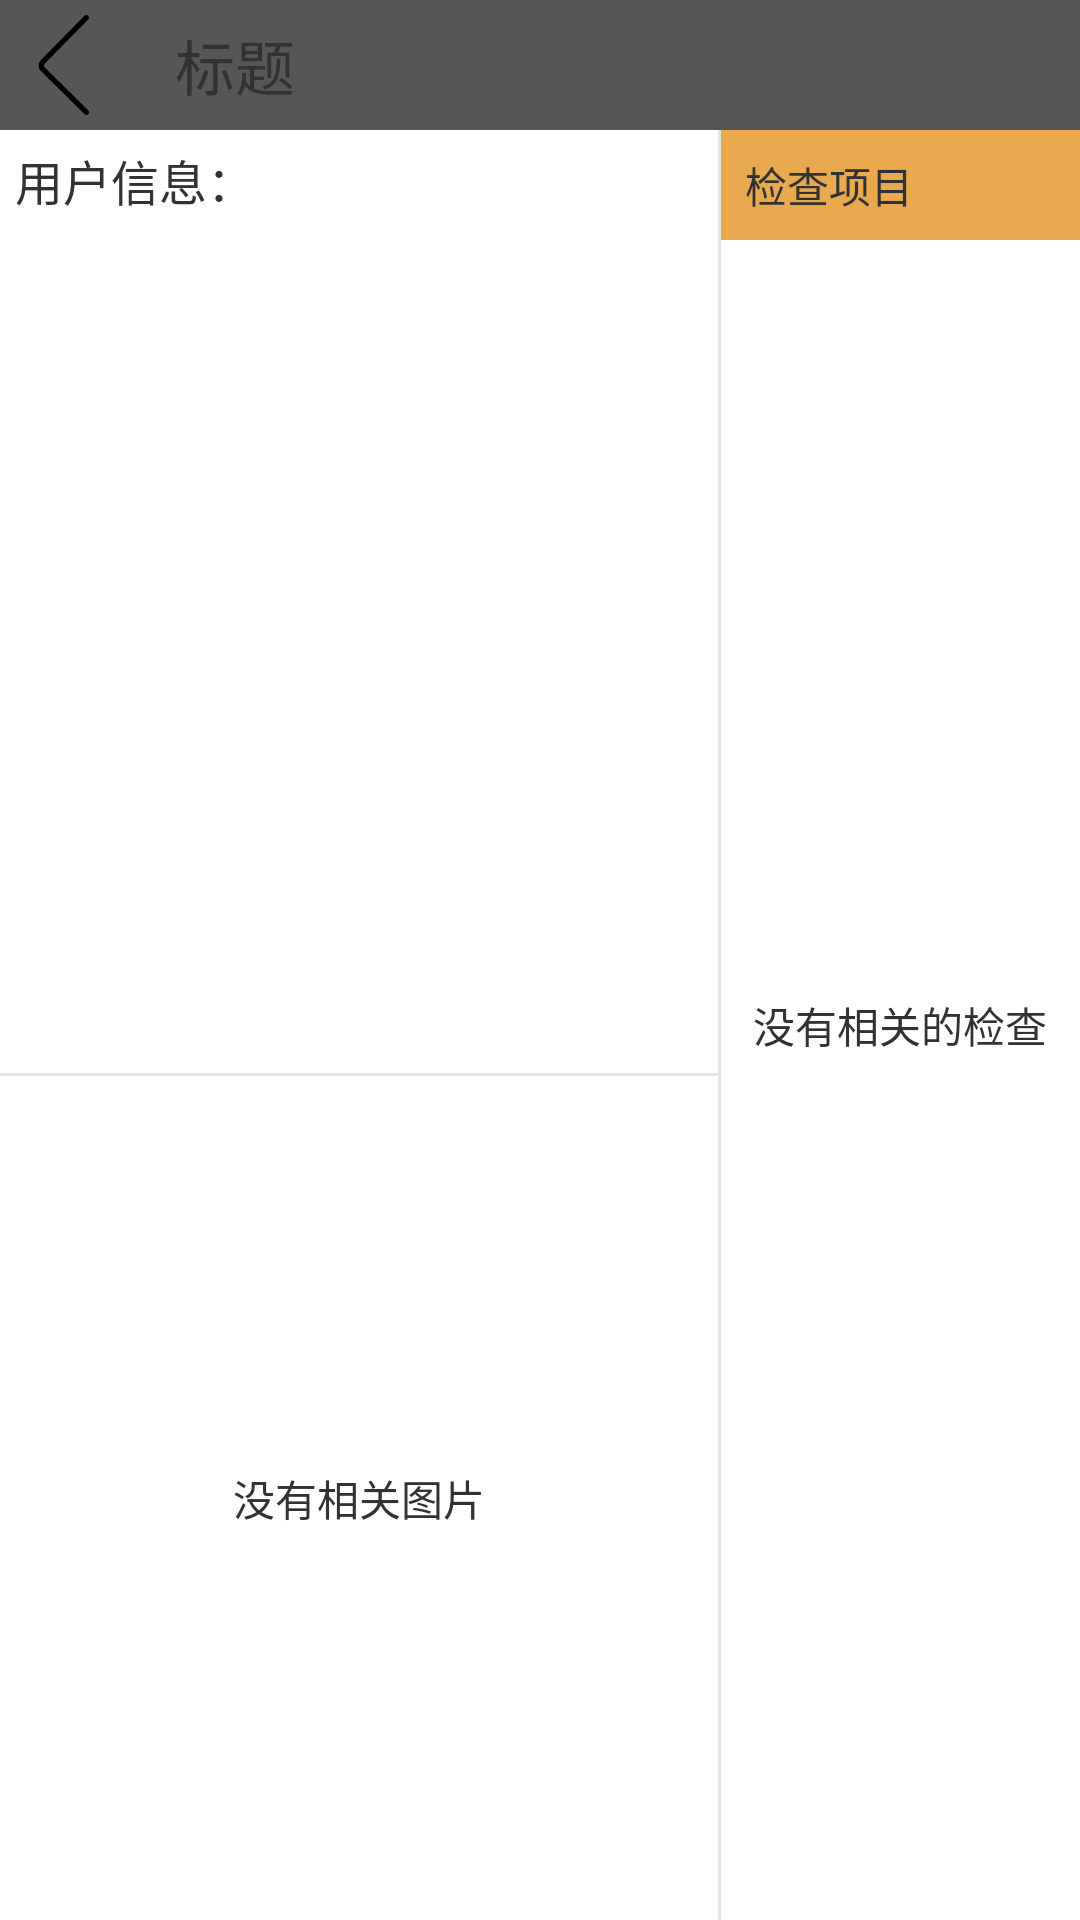

Screen size 1080x1920. Icon name, then its center in pixels as [x,y]:
pre activity: [64,65]
